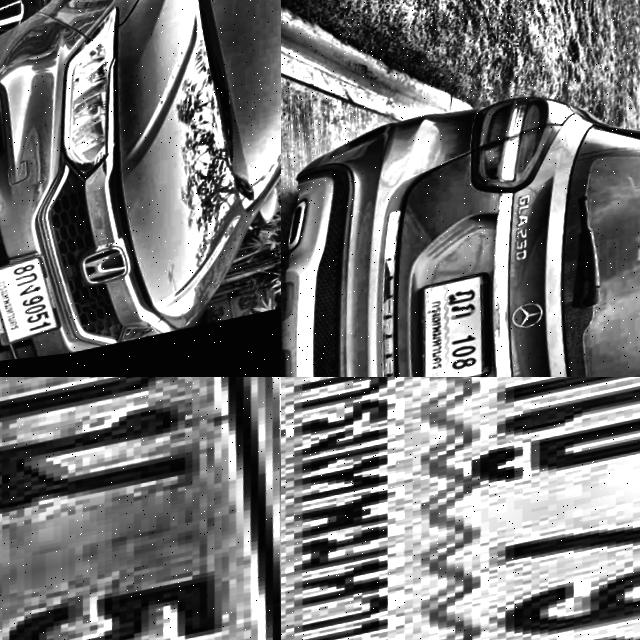license-plate: (281, 377, 640, 640), (0, 377, 281, 640), (0, 250, 83, 363), (416, 277, 508, 377)
